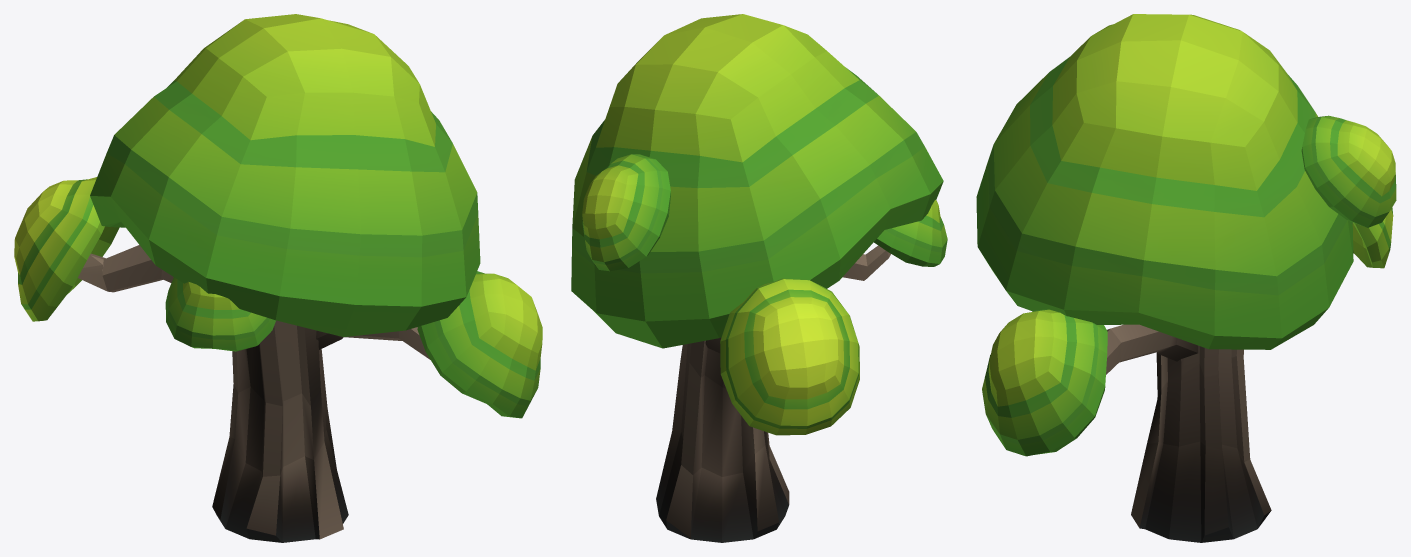
The model's file is Tree_Medium_E.fbx.
3 renders of one model, left to right at view 1: azimuth 30°, elevation 25°; view 2: azimuth 150°, elevation 25°; view 3: azimuth 270°, elevation 25°, orthographic. The views are drawn at different scales.
Parts seen in each view (by area): view 1: Tree_Medium_E; view 2: Tree_Medium_E; view 3: Tree_Medium_E.
Part boxes in pixels (x1=…): Tree_Medium_E: x1=14, y1=14, x2=542, y2=542; Tree_Medium_E: x1=571, y1=14, x2=947, y2=542; Tree_Medium_E: x1=976, y1=14, x2=1396, y2=542.
Size of the model in its own units: 170 by 217 by 169.
